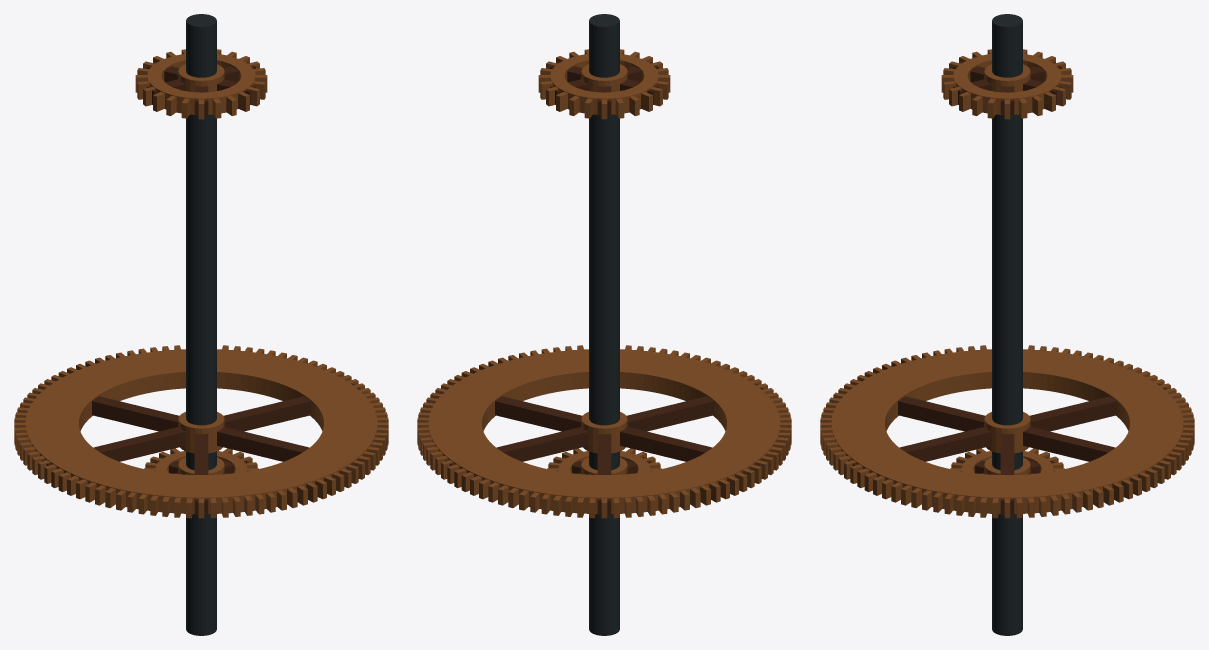
The model's file is main.obj.
3 renders of one model, left to right at view 1: azimuth 30°, elevation 25°; view 2: azimuth 150°, elevation 25°; view 3: azimuth 270°, elevation 25°, orthographic.
Visible parts, largest first — view 1: main_wood, main_iron, main_timber; view 2: main_wood, main_iron, main_timber; view 3: main_wood, main_iron, main_timber.
Boxes of the visible parts, x1=… form: main_wood: x1=14, y1=49, x2=388, y2=518; main_iron: x1=186, y1=14, x2=216, y2=635; main_timber: x1=42, y1=62, x2=360, y2=514; main_wood: x1=417, y1=49, x2=791, y2=518; main_iron: x1=589, y1=14, x2=619, y2=635; main_timber: x1=445, y1=62, x2=763, y2=514; main_wood: x1=820, y1=49, x2=1194, y2=518; main_iron: x1=992, y1=14, x2=1022, y2=635; main_timber: x1=848, y1=62, x2=1166, y2=514.
Bounding box in the file's own units: 2.68 × 4.8 × 2.68.
